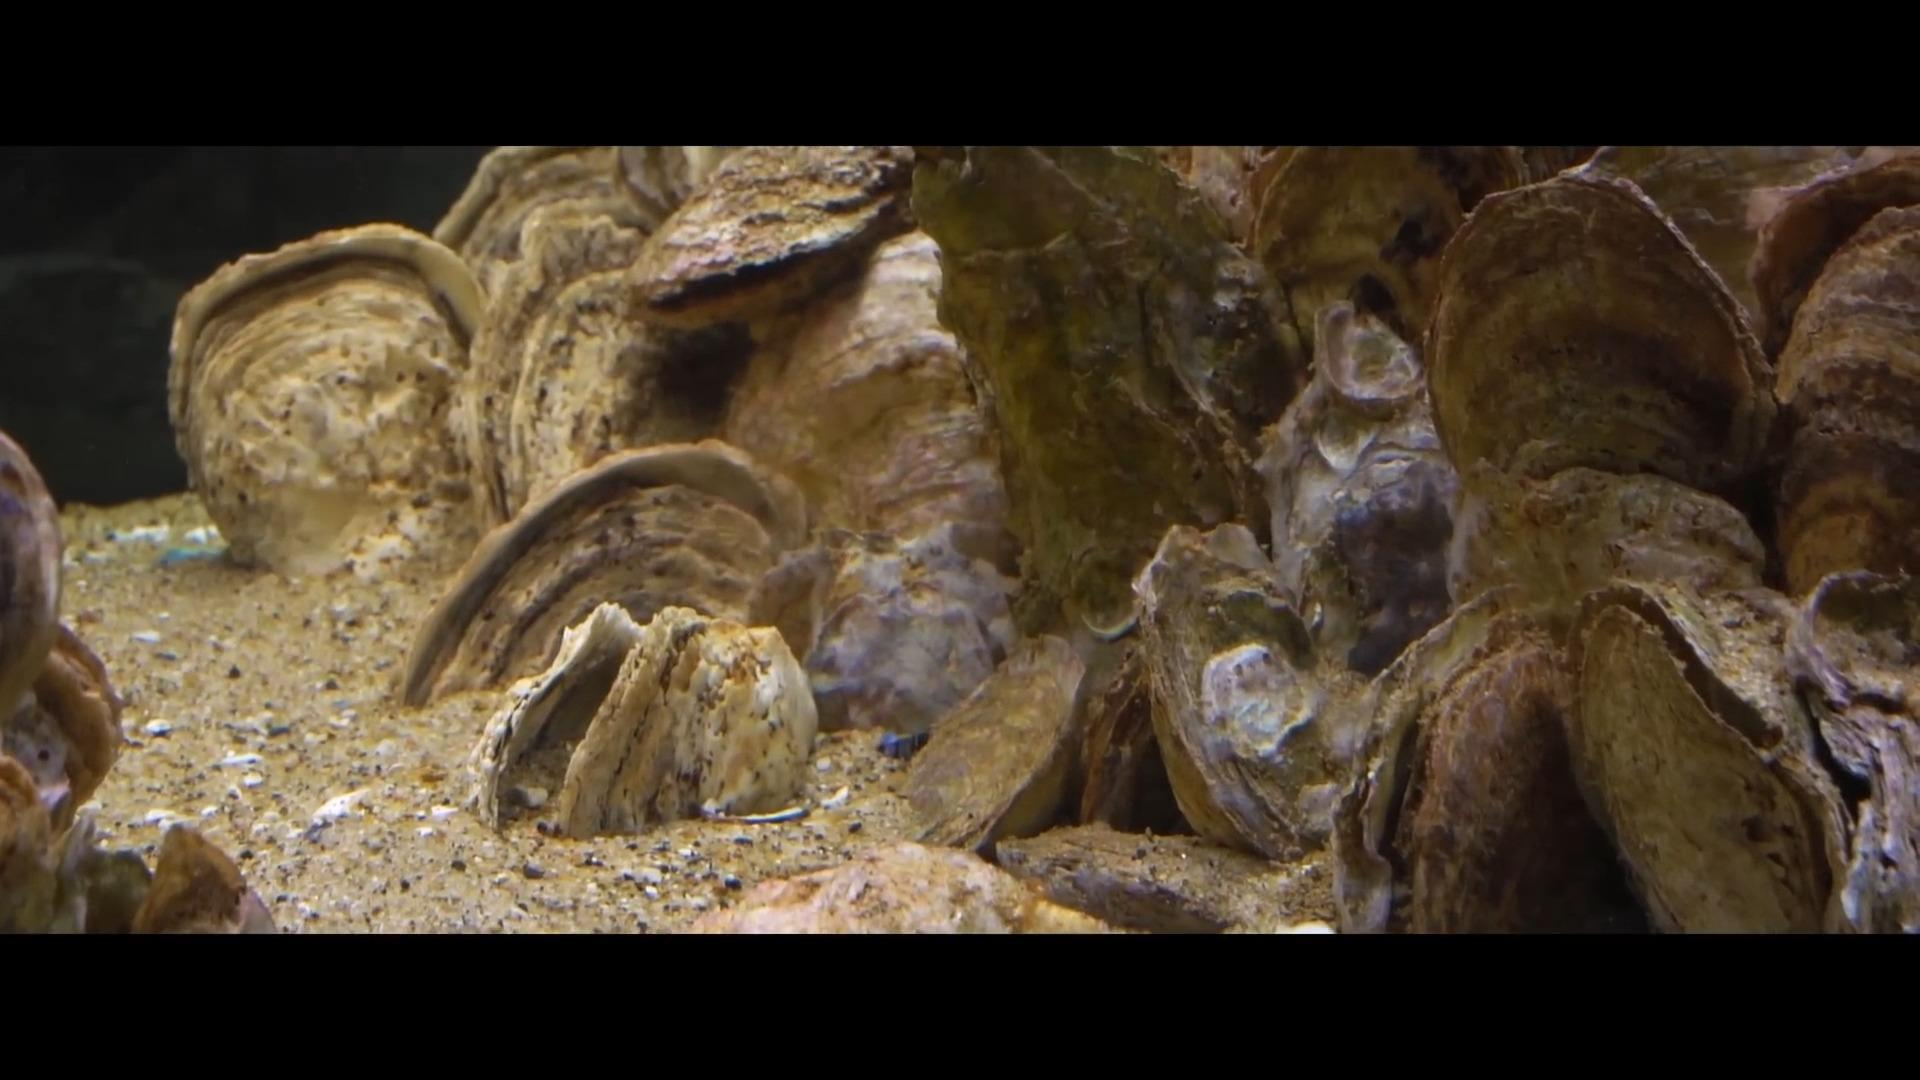Oyster: (916, 144, 1288, 626), (1425, 169, 1778, 498), (167, 223, 480, 574), (405, 440, 802, 704), (1569, 583, 1844, 930), (467, 595, 820, 836), (1383, 621, 1640, 932), (1133, 525, 1360, 866), (1244, 142, 1536, 369), (495, 261, 740, 517), (633, 146, 913, 315), (893, 628, 1091, 860), (1745, 154, 1919, 365), (435, 145, 654, 277), (0, 418, 67, 740), (28, 620, 129, 828), (127, 822, 273, 934)
